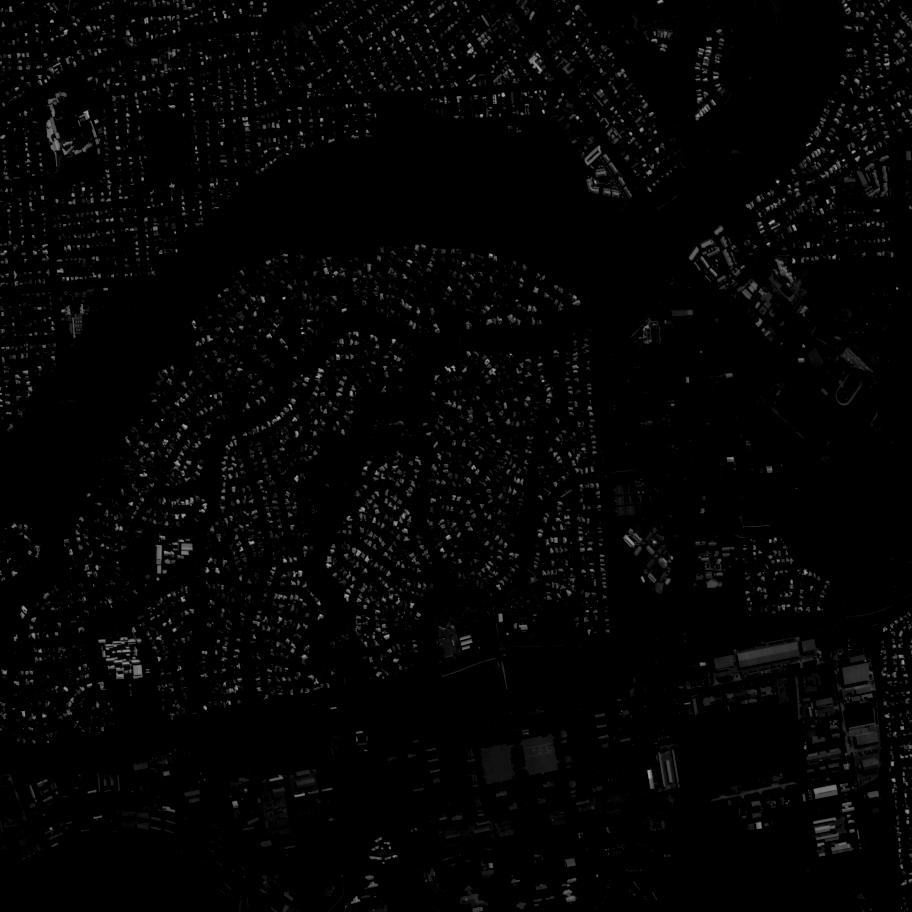storage-tank: (709, 884, 722, 899)
